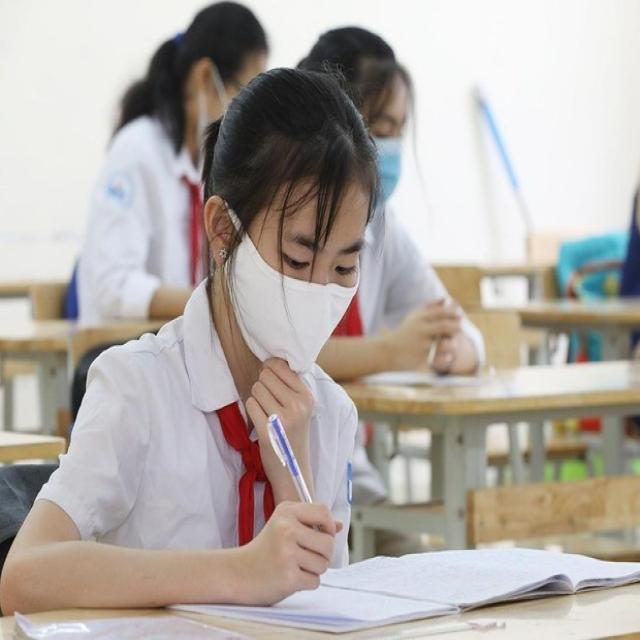Nonhelmet: (195, 61, 384, 408)
